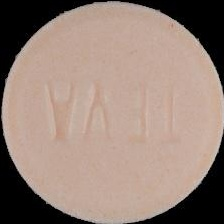54868-0056: (0, 0, 224, 224)
